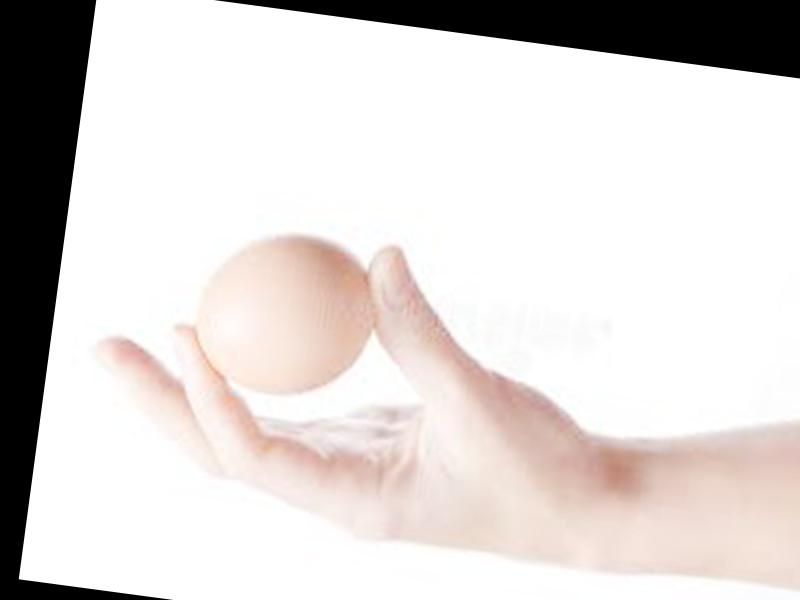Eggs: (189, 224, 386, 403)
